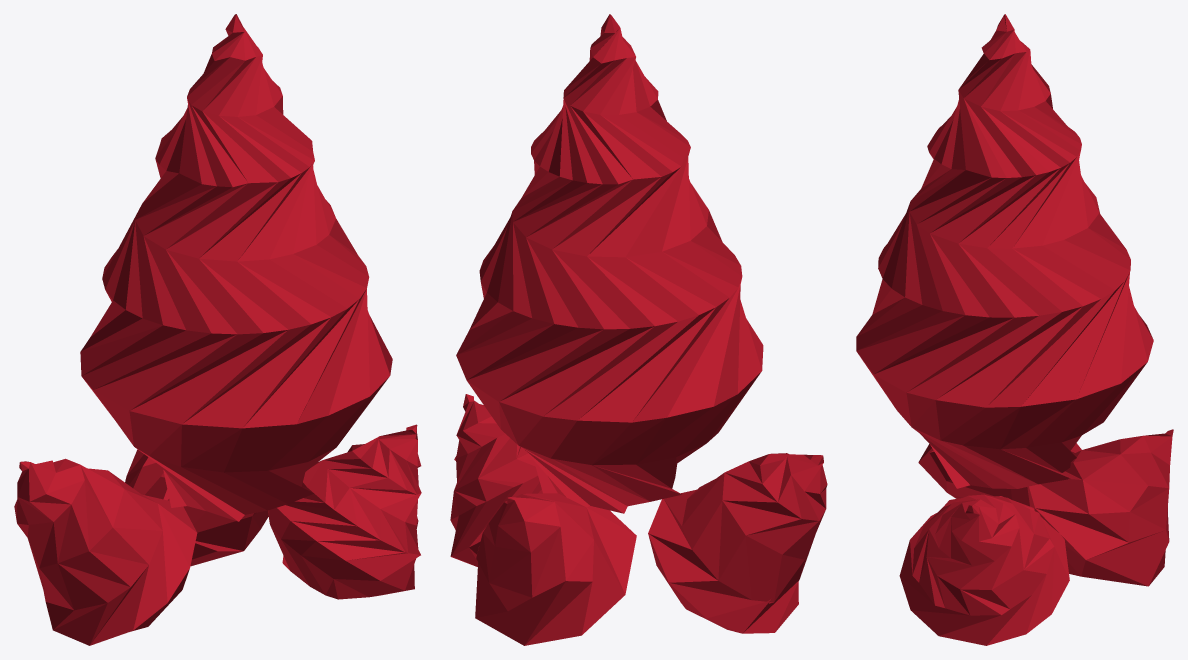
File: tree-dead-leaves-004.glb
3 renders of one model, left to right at view 1: azimuth 30°, elevation 25°; view 2: azimuth 150°, elevation 25°; view 3: azimuth 270°, elevation 25°, orthographic. The views are drawn at different scales.
Visible parts, largest first — view 1: Circle.055_431; view 2: Circle.055_431; view 3: Circle.055_431.
Boxes of the visible parts, <box> form: Circle.055_431: <box>14,14,421,645</box>; Circle.055_431: <box>450,14,827,645</box>; Circle.055_431: <box>856,14,1173,645</box>.
Bounding box in the file's own units: 1.05 × 1.56 × 0.7933.
